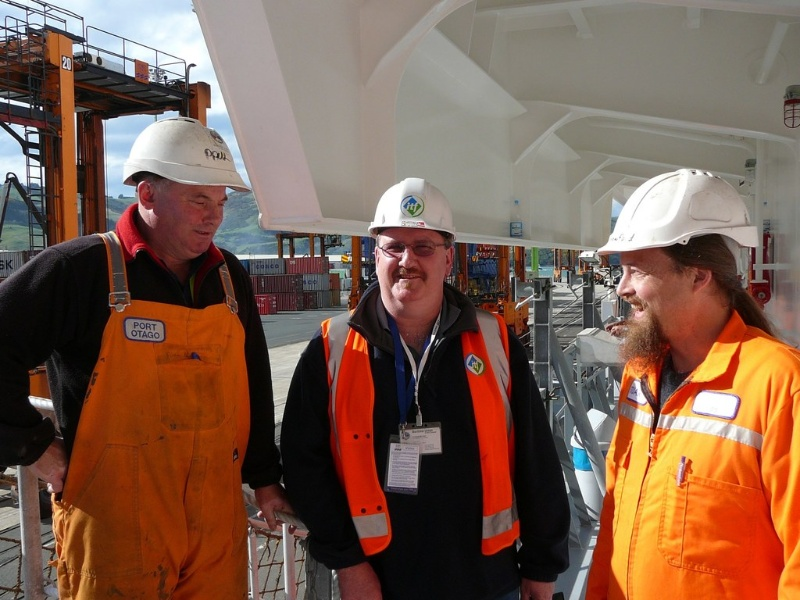Baret: (602, 168, 763, 252), (124, 116, 248, 193), (368, 177, 457, 238)
